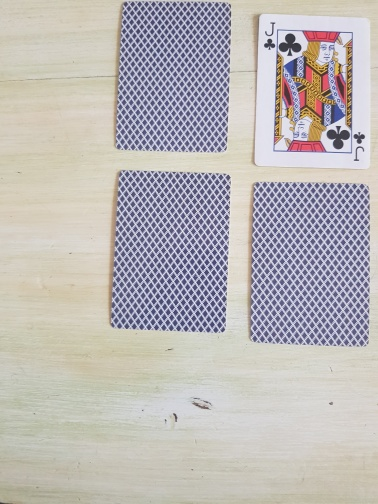jack: (252, 13, 372, 170)
